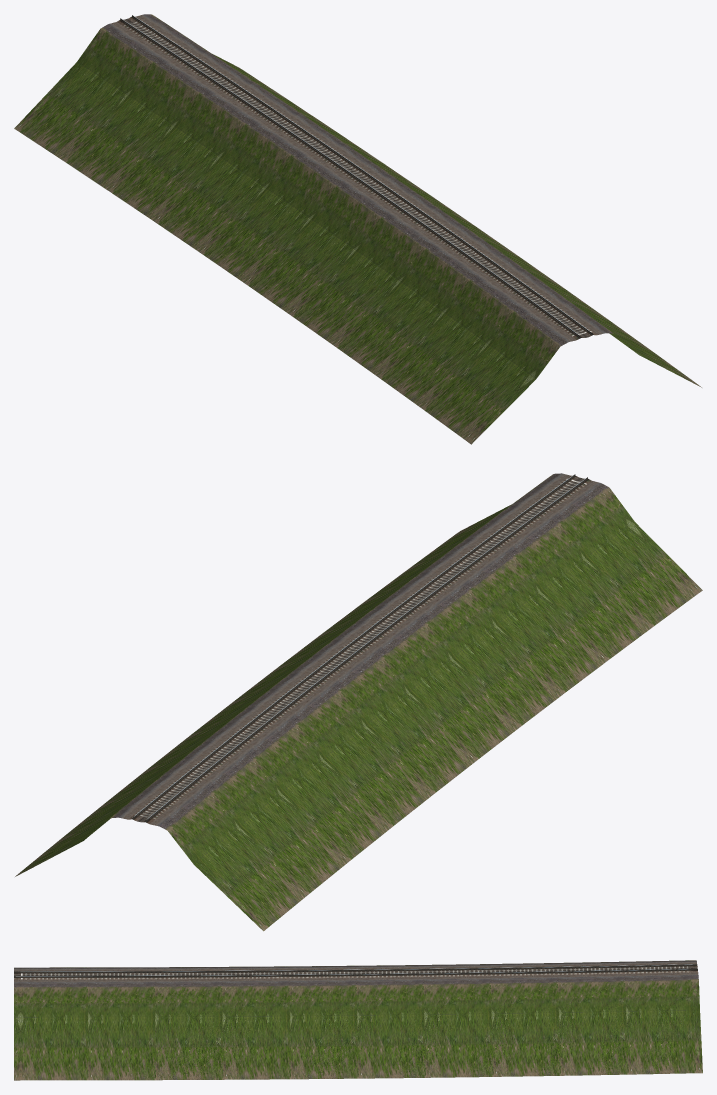
The model's file is tracks_1track2000l.gltf.
3 renders of one model, top to bottom at view 1: azimuth 30°, elevation 25°; view 2: azimuth 150°, elevation 25°; view 3: azimuth 270°, elevation 25°, orthographic. The views are drawn at different scales.
Visible parts, largest first — view 1: tracks_1track2000l; view 2: tracks_1track2000l; view 3: tracks_1track2000l.
Part boxes in pixels (left/top/right/bottom): tracks_1track2000l: left=14, top=14, right=701, bottom=444; tracks_1track2000l: left=15, top=473, right=702, bottom=931; tracks_1track2000l: left=14, top=960, right=702, bottom=1080.
Bounding box in the file's own units: 33.43 × 10.36 × 103.
Materials: 1 (1 with a texture image).
